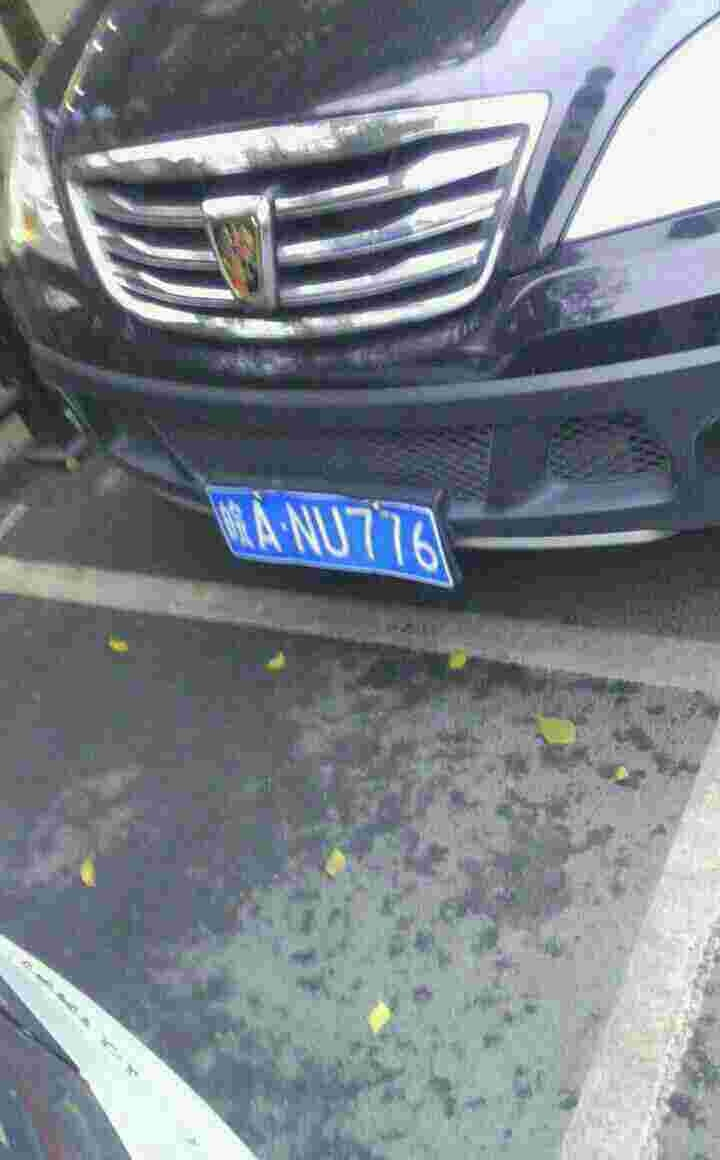license_plate: (218, 486, 448, 586)
